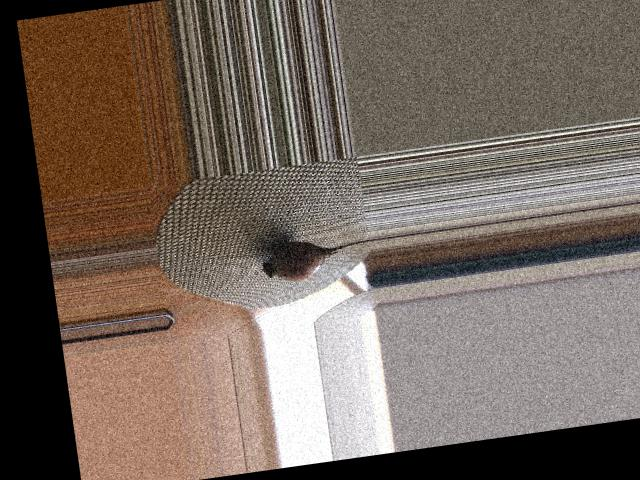beet: (259, 232, 372, 285)
